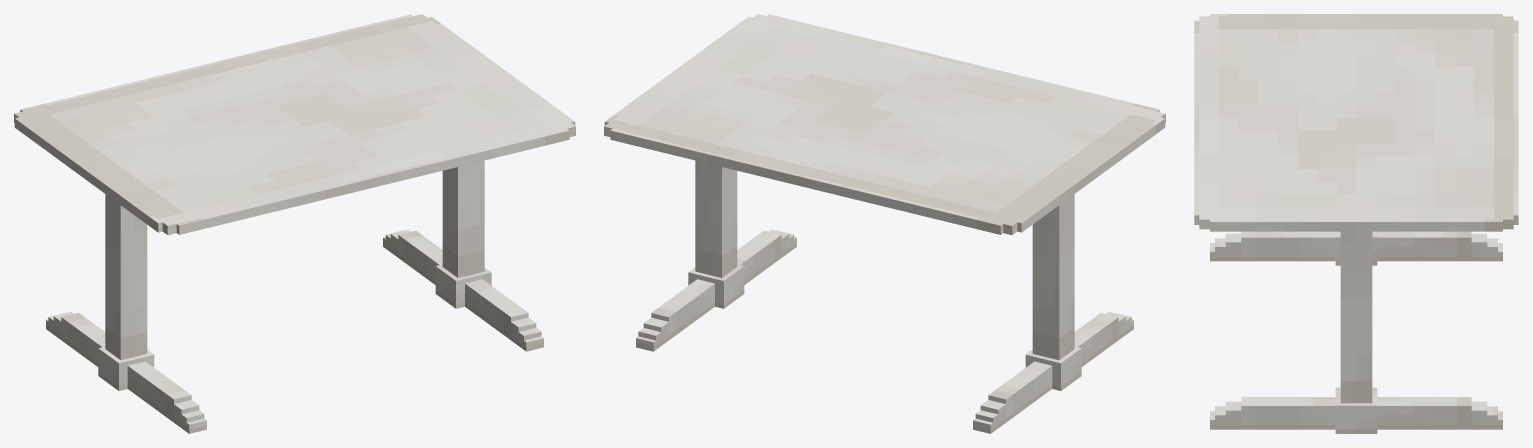
The model's file is Table.fbx.
3 views of the same model, side by side, from view 1: azimuth 30°, elevation 25°; view 2: azimuth 150°, elevation 25°; view 3: azimuth 270°, elevation 25° (orthographic). The views are drawn at different scales.
Visible parts, largest first — view 1: Element__3, Element__8, Element__2, Element__10, Element__1, Element__12, Element__4, Element__5, Element__9, Element__7, Element__6; view 2: Element__3, Element__8, Element__5, Element__10, Element__1, Element__12, Element__4, Element__2, Element__9, Element__7, Element__6; view 3: Element__3, Element__12, Element__1, Element__10, Element__6, Element__9, Element__2, Element__5, Element__4, Element__14, Element__15, Element__18 (+2 smaller).
Part boxes in pixels (x1,y1,x2,y2): Element__3: [14, 14, 575, 235]; Element__8: [105, 194, 147, 360]; Element__2: [176, 128, 569, 234]; Element__10: [442, 160, 484, 277]; Element__1: [61, 313, 191, 422]; Element__12: [398, 230, 528, 339]; Element__4: [14, 117, 162, 232]; Element__5: [20, 14, 412, 111]; Element__9: [435, 264, 491, 308]; Element__7: [98, 347, 154, 390]; Element__6: [427, 16, 575, 125]; Element__3: [604, 14, 1165, 235]; Element__8: [1032, 194, 1074, 360]; Element__5: [610, 128, 1003, 234]; Element__10: [695, 160, 737, 277]; Element__1: [988, 313, 1118, 422]; Element__12: [651, 230, 781, 339]; Element__4: [1017, 117, 1165, 232]; Element__2: [767, 14, 1159, 111]; Element__9: [688, 264, 744, 308]; Element__7: [1025, 347, 1081, 390]; Element__6: [604, 16, 752, 125]; Element__3: [1199, 16, 1513, 229]; Element__12: [1241, 397, 1471, 429]; Element__1: [1241, 231, 1471, 261]; Element__10: [1340, 231, 1372, 403]; Element__6: [1210, 219, 1502, 231]; Element__9: [1335, 387, 1377, 433]; Element__2: [1194, 20, 1199, 224]; Element__5: [1513, 20, 1518, 224]; Element__4: [1210, 14, 1502, 16]; Element__14: [1471, 406, 1497, 429]; Element__15: [1215, 406, 1241, 429]; Element__18: [1215, 238, 1241, 261].
Bounding box in the file's own units: 47 × 23.5 × 31.
Materials: 1 (1 with a texture image).
